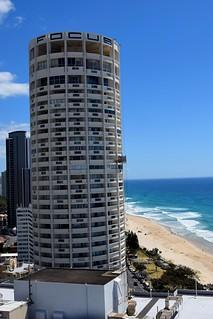building: (23, 30, 134, 318)
